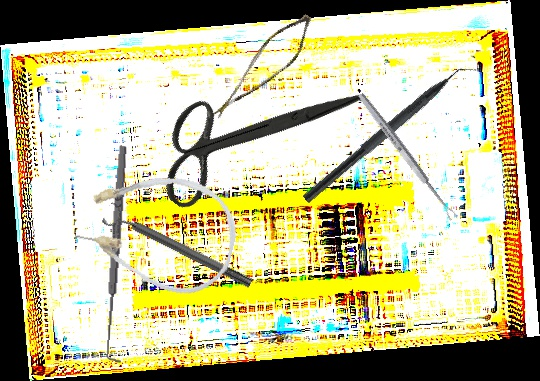Cannula: (67, 156, 247, 304)
Chopper: (302, 54, 482, 215)
Fixation Ring: (100, 199, 257, 297)
Hook Surgical: (100, 144, 137, 364)
Iris Scissors: (135, 14, 366, 257)
Micro Scissor: (211, 0, 319, 138)
Surgical Spoon: (356, 91, 458, 222)
